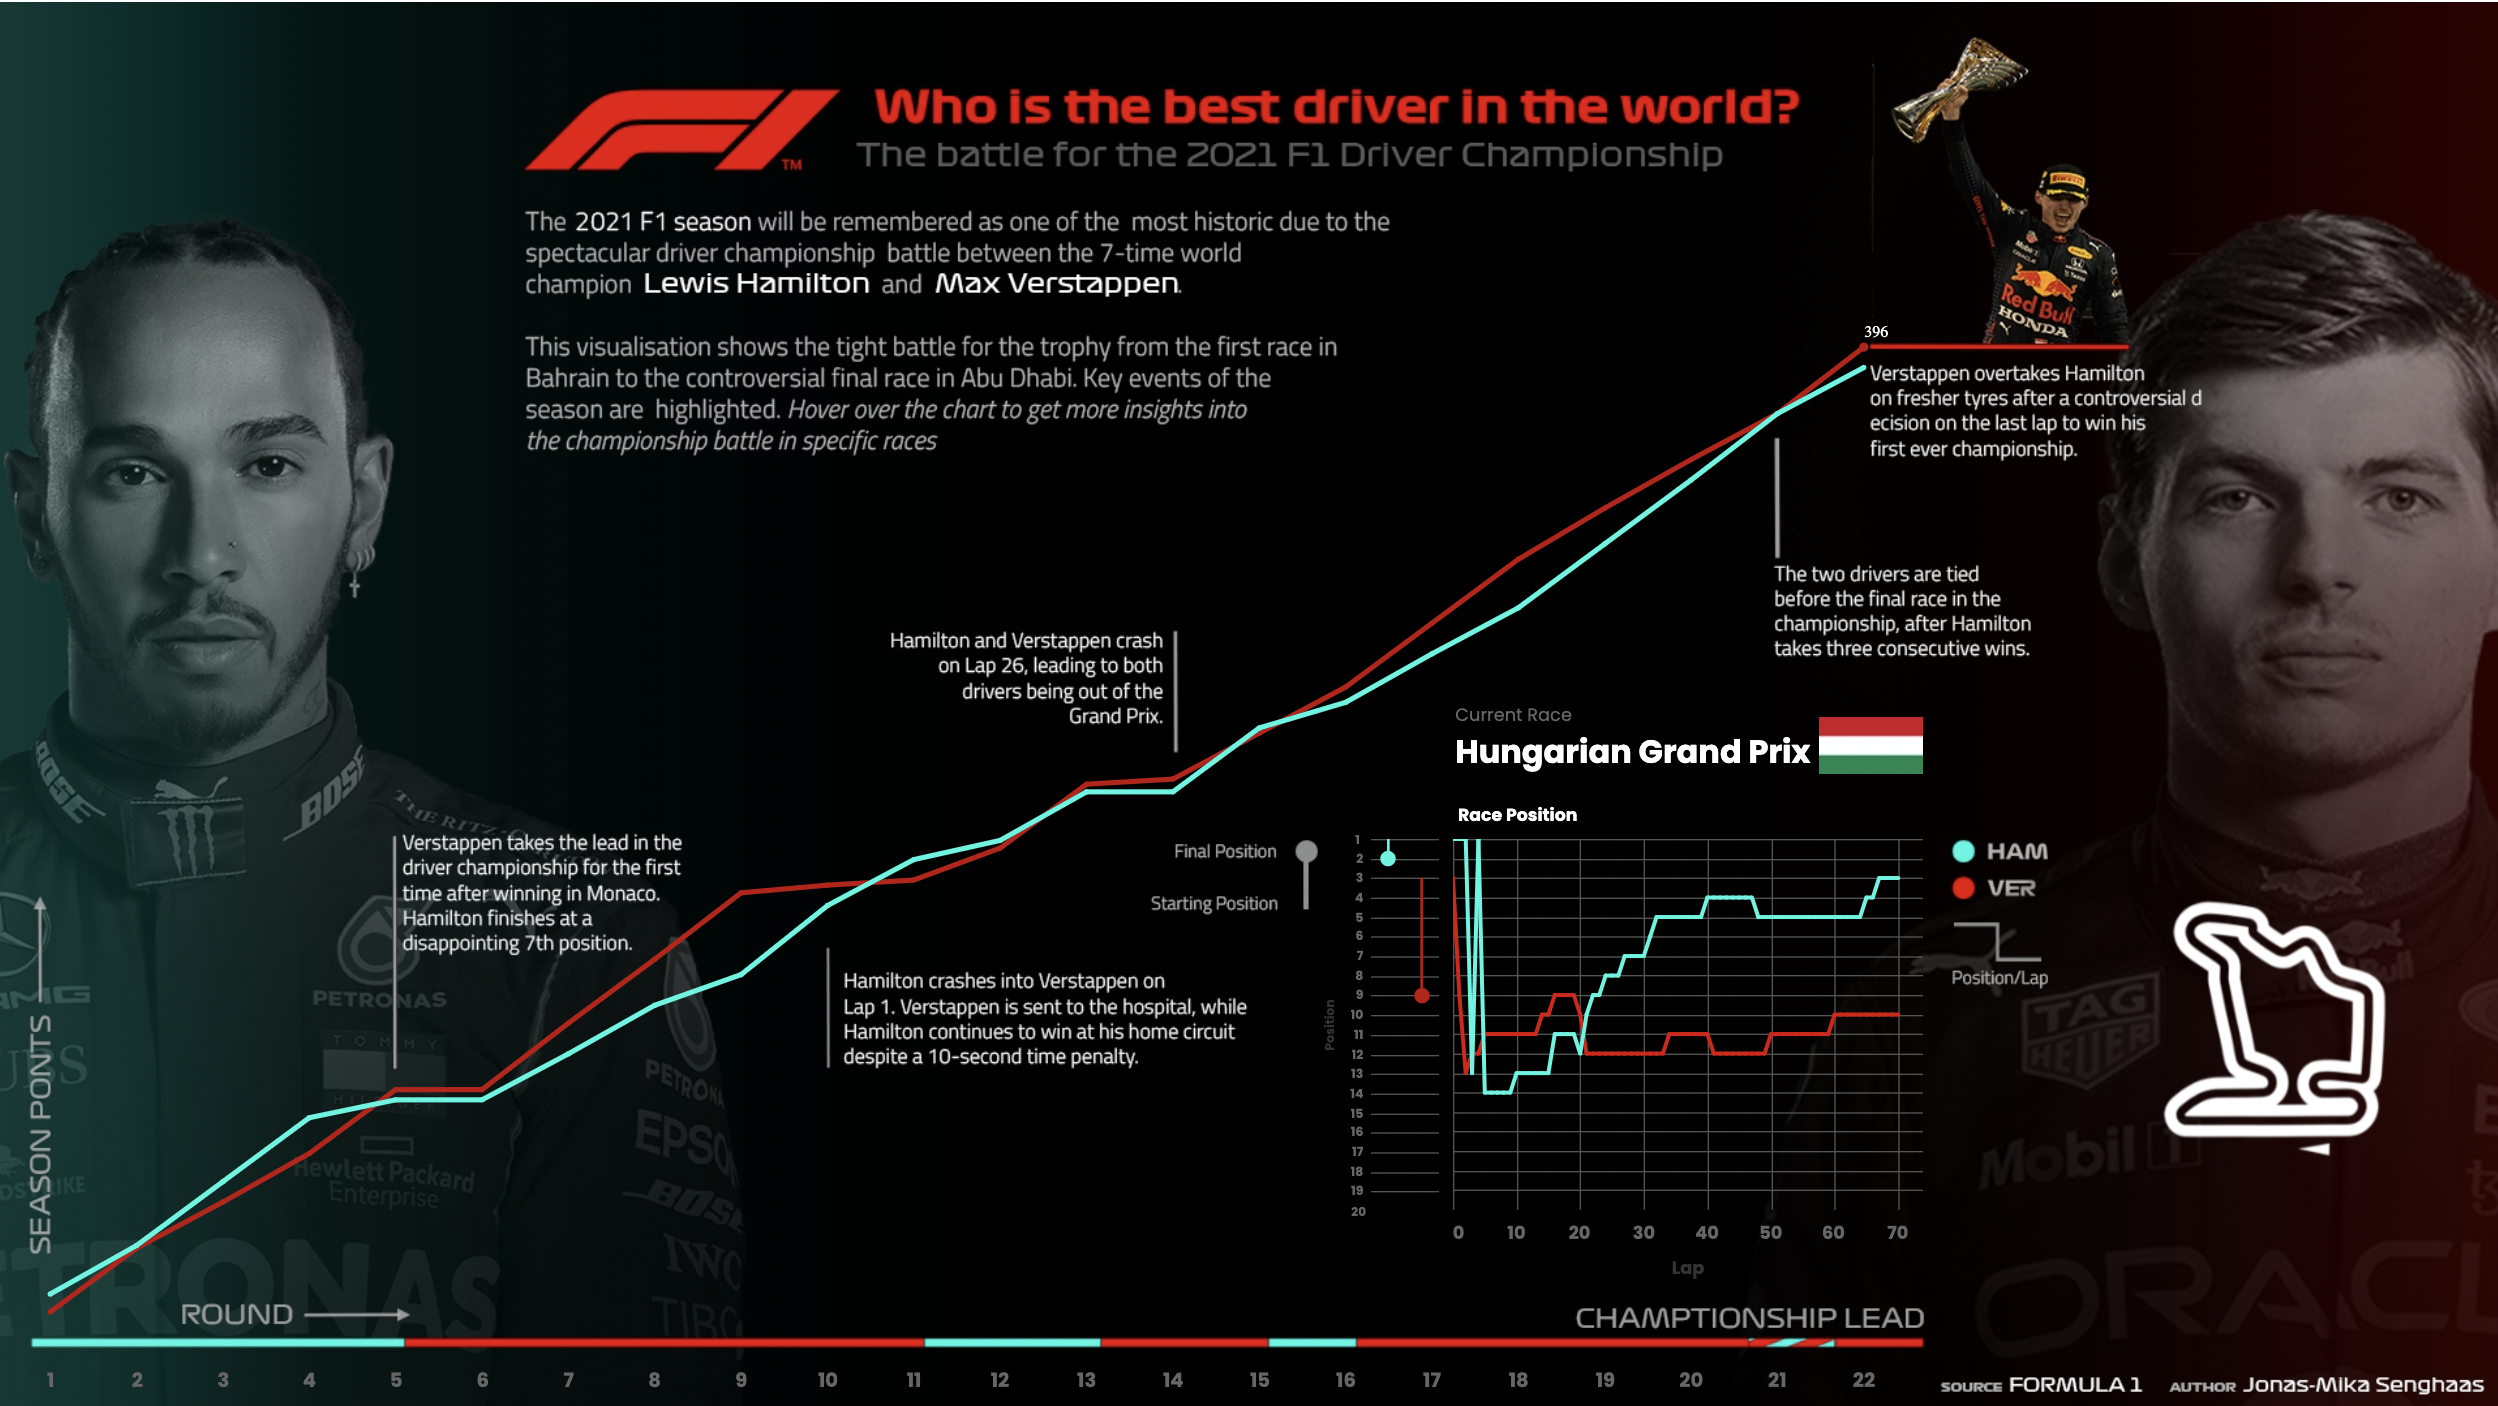

This screenshot's page, from the dashboard's own definition file:
{"tool":"tableau","page":{"name":"Dashboard","canvas":[1920,1080],"ordinal":0},"visuals":[{"type":"image","param":"/Users/jonas-mika/programming/itu/semester4/viz/project/f1/images/bg/bg.png","box":[8,8,1904,1064]},{"type":"worksheet","title":"Points over Season","mark":"Line","rows":["Total Points"],"cols":["Round"],"box":[28,231,1425,824]},{"type":"worksheet","title":"Current Track Country Flag","mark":"Shape","box":[1357,530,138,78]},{"type":"worksheet","title":"Current Race","mark":"Automatic","box":[1110,537,277,67]},{"type":"worksheet","title":"Race Performance","mark":"Automatic","rows":["Position"],"cols":["Lap"],"box":[1112,606,353,371]},{"type":"text","box":[1039,624,100,30]},{"type":"worksheet","title":"Race Performance (Start/Final)","mark":"Circle","rows":["Final Position","Final Position"],"cols":["Round","Driver Code"],"box":[1006,640,96,279]},{"type":"worksheet","title":"Current Track Layout","mark":"Shape","box":[1587,640,282,284]},{"type":"text","box":[1036,903,100,30]}]}

Visuals, with their boxes in screenshot pixels (x1, y1, x2, y2), scaled from the page's 1920x1080 canvas onto the 2498x1406 screenshot:
image: <region>10, 10, 2488, 1396</region>
"Points over Season" worksheet (Line marks): <region>36, 301, 1890, 1373</region>
"Current Track Country Flag" worksheet (Shape marks): <region>1766, 690, 1945, 792</region>
"Current Race" worksheet: <region>1444, 699, 1805, 786</region>
"Race Performance" worksheet: <region>1447, 789, 1906, 1272</region>
text: <region>1352, 812, 1482, 851</region>
"Race Performance (Start/Final)" worksheet (Circle marks): <region>1309, 833, 1434, 1196</region>
"Current Track Layout" worksheet (Shape marks): <region>2065, 833, 2432, 1203</region>
text: <region>1348, 1176, 1478, 1215</region>
